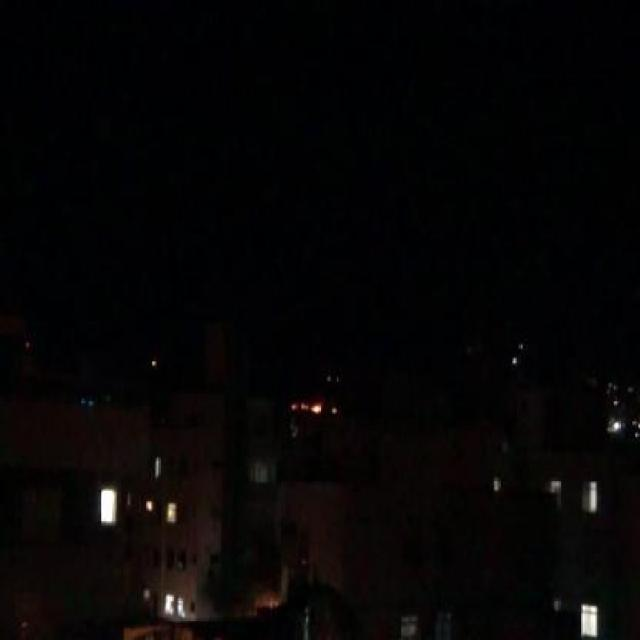Fire: (290, 400, 322, 414)
